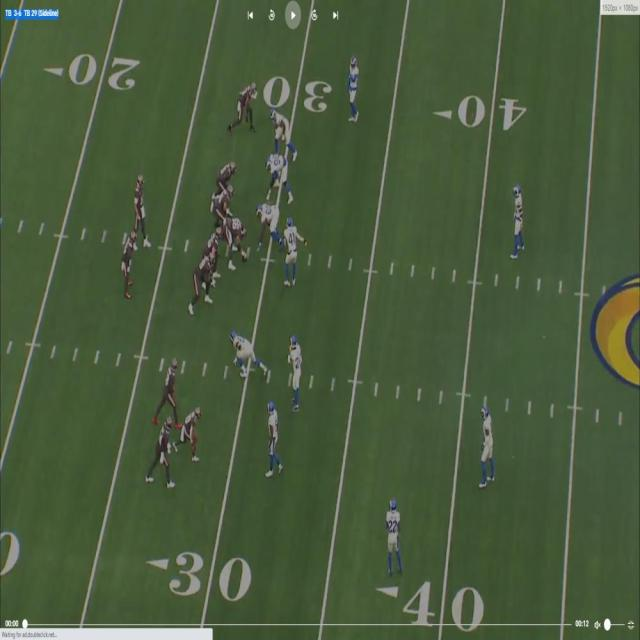center: (222, 213, 248, 259)
db: (480, 397, 492, 484), (288, 340, 302, 414), (265, 402, 278, 475), (387, 500, 400, 573), (512, 184, 524, 257), (350, 56, 360, 119)
lb: (282, 217, 298, 290)
qb: (133, 172, 147, 246)
skill: (156, 356, 182, 428), (154, 418, 172, 482), (182, 406, 201, 466), (232, 85, 254, 130), (122, 230, 135, 300)
